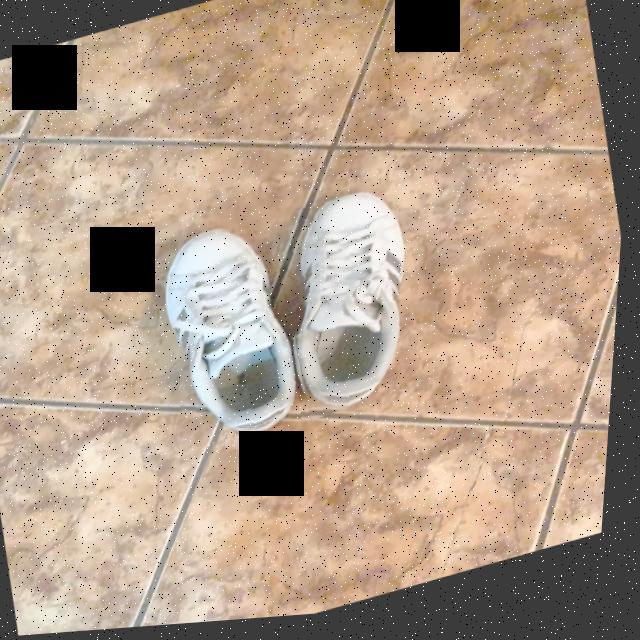shoe: (168, 235, 303, 440), (302, 199, 410, 414)
